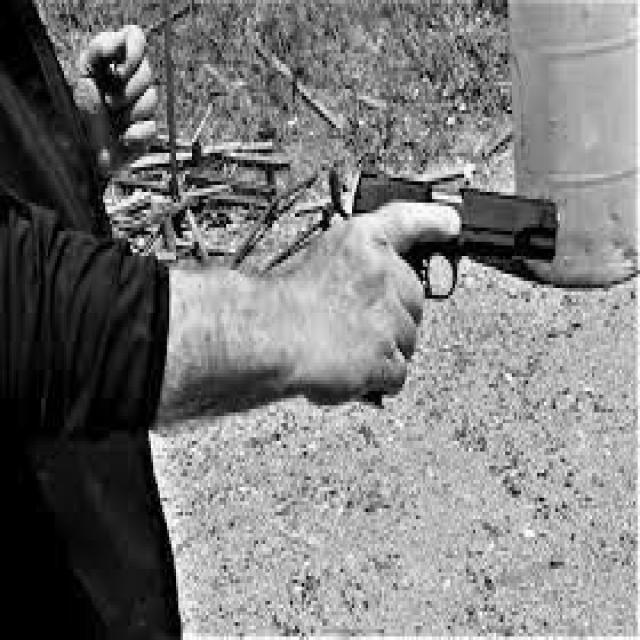gun: (355, 171, 558, 410)
